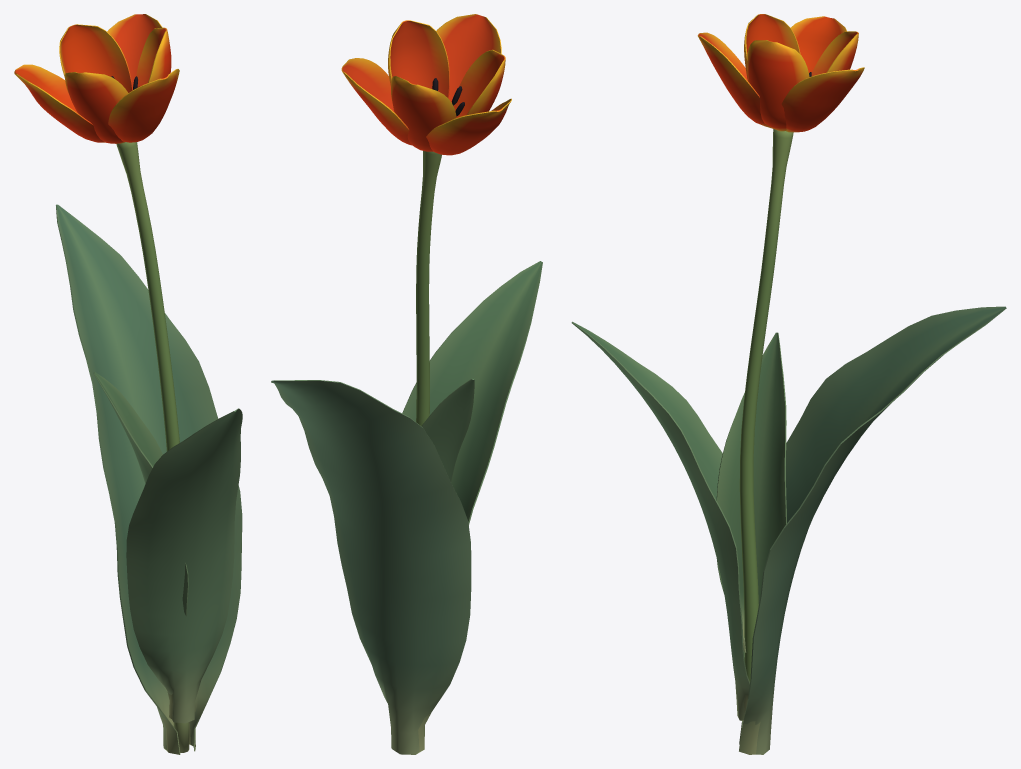
Rendered from full-flame.glb.
3 renders of one model, left to right at view 1: azimuth 30°, elevation 25°; view 2: azimuth 150°, elevation 25°; view 3: azimuth 270°, elevation 25°, orthographic. The views are drawn at different scales.
Parts seen in each view (by area): view 1: tulip-full-flame; view 2: tulip-full-flame; view 3: tulip-full-flame.
Boxes of the visible parts, bbox=[...] form: tulip-full-flame: bbox=[14, 14, 242, 754]; tulip-full-flame: bbox=[271, 14, 542, 754]; tulip-full-flame: bbox=[571, 14, 1006, 754].
Size of the model in its own units: 0.1139 by 0.3956 by 0.2211.
